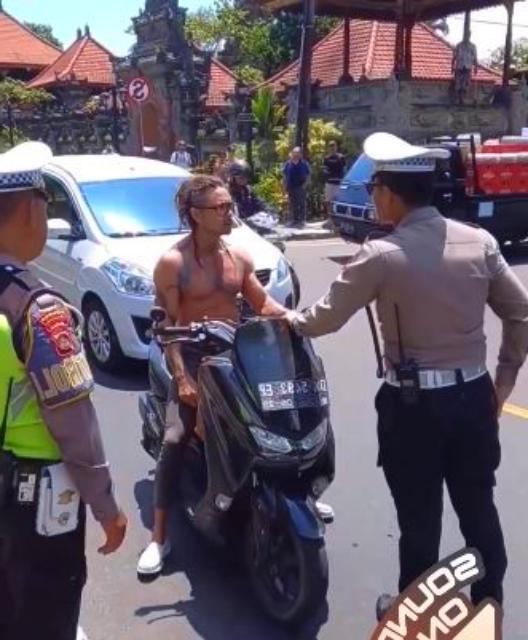motor: (130, 300, 347, 627)
non-helm: (179, 177, 238, 239)
